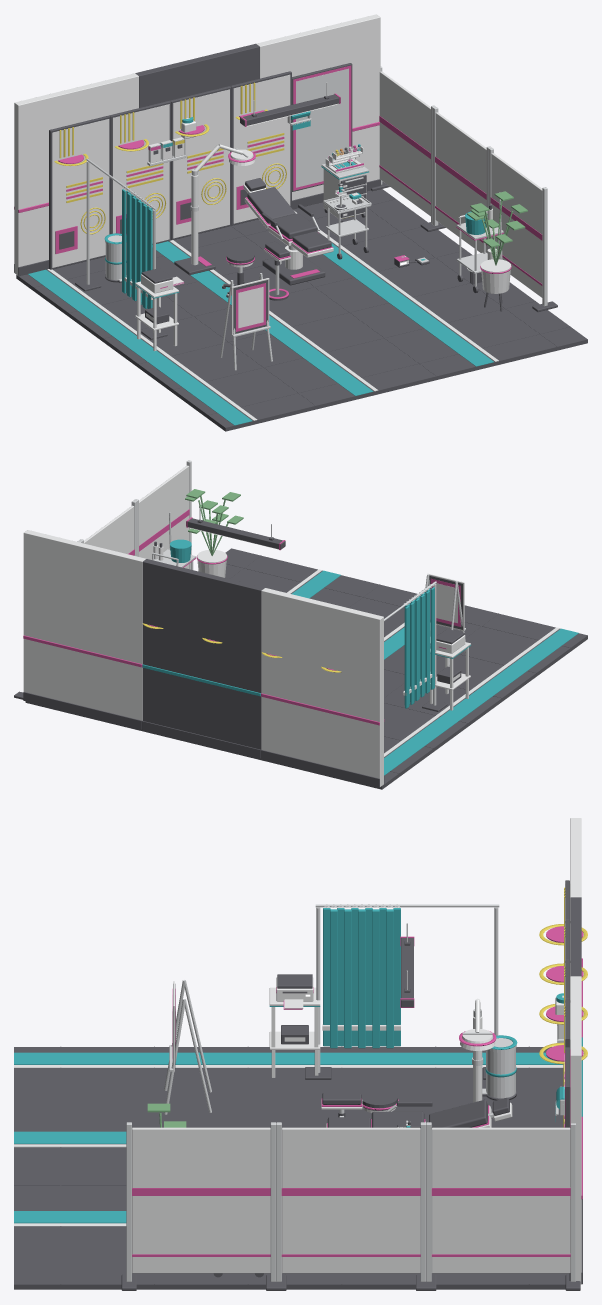
File: tattoo-and-piercing-studio-booth-mid-session-a5bb8549__34566.glb
The picture shows the model from 3 angles, top to bottom: view 1: azimuth 30°, elevation 25°; view 2: azimuth 150°, elevation 25°; view 3: azimuth 270°, elevation 25°; orthographic projection. The views are drawn at different scales.
Visible parts, largest first — view 1: 009-studio-wall-module/0, 011-studio-wall-module/0, 002-studio-floor-tile-dark/0, 005-studio-floor-tile-dark/0, 008-studio-floor-tile-dark/0, 012-flash-art-wall-panel/1, 001-studio-floor-tile-dark/0, 014-flash-art-wall-panel/1, 007-studio-floor-tile-dark/0, 004-studio-floor-tile-dark/0, 017-booth-divider-panel/2, 015-flash-art-wall-panel/1 (+47 smaller); view 2: 010-studio-wall-module-dark/0, 009-studio-wall-module/0, 011-studio-wall-module/0, 002-studio-floor-tile-dark/0, 001-studio-floor-tile-dark/0, 020-privacy-curtain-rail/2, 019-booth-divider-panel/2, 008-studio-floor-tile-dark/0, 005-studio-floor-tile-dark/0, 000-studio-floor-tile-dark/0, 018-booth-divider-panel/2, 002-studio-floor-tile-dark/1 (+16 smaller); view 3: 017-booth-divider-panel/2, 019-booth-divider-panel/2, 018-booth-divider-panel/2, 002-studio-floor-tile-dark/0, 020-privacy-curtain-rail/2, 001-studio-floor-tile-dark/0, 008-studio-floor-tile-dark/0, 005-studio-floor-tile-dark/0, 000-studio-floor-tile-dark/0, 011-studio-wall-module/0, 007-studio-floor-tile-dark/0, 006-studio-floor-tile-dark/0 (+22 smaller).
Part boxes in pixels (bbox=[...]): 009-studio-wall-module/0: bbox=[14, 73, 138, 275]; 011-studio-wall-module/0: bbox=[256, 14, 380, 200]; 002-studio-floor-tile-dark/0: bbox=[155, 347, 346, 431]; 005-studio-floor-tile-dark/0: bbox=[277, 318, 467, 401]; 008-studio-floor-tile-dark/0: bbox=[398, 288, 587, 372]; 012-flash-art-wall-panel/1: bbox=[52, 119, 109, 267]; 001-studio-floor-tile-dark/0: bbox=[86, 296, 275, 379]; 014-flash-art-wall-panel/1: bbox=[173, 89, 229, 238]; 007-studio-floor-tile-dark/0: bbox=[328, 237, 517, 317]; 004-studio-floor-tile-dark/0: bbox=[207, 267, 396, 347]; 017-booth-divider-panel/2: bbox=[379, 71, 430, 216]; 015-flash-art-wall-panel/1: bbox=[233, 74, 290, 223]; 010-studio-wall-module-dark/0: bbox=[142, 559, 264, 758]; 009-studio-wall-module/0: bbox=[261, 588, 383, 786]; 011-studio-wall-module/0: bbox=[23, 530, 145, 720]; 002-studio-floor-tile-dark/0: bbox=[401, 606, 587, 688]; 001-studio-floor-tile-dark/0: bbox=[384, 656, 519, 738]; 020-privacy-curtain-rail/2: bbox=[404, 587, 434, 708]; 019-booth-divider-panel/2: bbox=[139, 465, 189, 568]; 008-studio-floor-tile-dark/0: bbox=[225, 548, 349, 600]; 005-studio-floor-tile-dark/0: bbox=[318, 577, 468, 656]; 000-studio-floor-tile-dark/0: bbox=[263, 719, 450, 789]; 018-booth-divider-panel/2: bbox=[84, 505, 134, 553]; 002-studio-floor-tile-dark/1: bbox=[493, 628, 578, 682]; 017-booth-divider-panel/2: bbox=[431, 1127, 570, 1273]; 019-booth-divider-panel/2: bbox=[132, 1127, 270, 1273]; 018-booth-divider-panel/2: bbox=[282, 1127, 420, 1273]; 002-studio-floor-tile-dark/0: bbox=[14, 1046, 201, 1126]; 020-privacy-curtain-rail/2: bbox=[323, 908, 400, 1048]; 001-studio-floor-tile-dark/0: bbox=[201, 1046, 388, 1126]; 008-studio-floor-tile-dark/0: bbox=[14, 1205, 201, 1289]; 005-studio-floor-tile-dark/0: bbox=[14, 1126, 201, 1205]; 000-studio-floor-tile-dark/0: bbox=[388, 1046, 563, 1126]; 011-studio-wall-module/0: bbox=[570, 976, 581, 1283]; 007-studio-floor-tile-dark/0: bbox=[201, 1273, 388, 1289]; 006-studio-floor-tile-dark/0: bbox=[388, 1273, 569, 1289].
Size of the model in its own units: 6.17 by 2.87 by 6.13.
